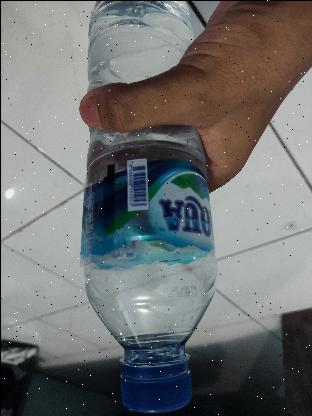Plastic Bottle: (56, 0, 234, 412)
